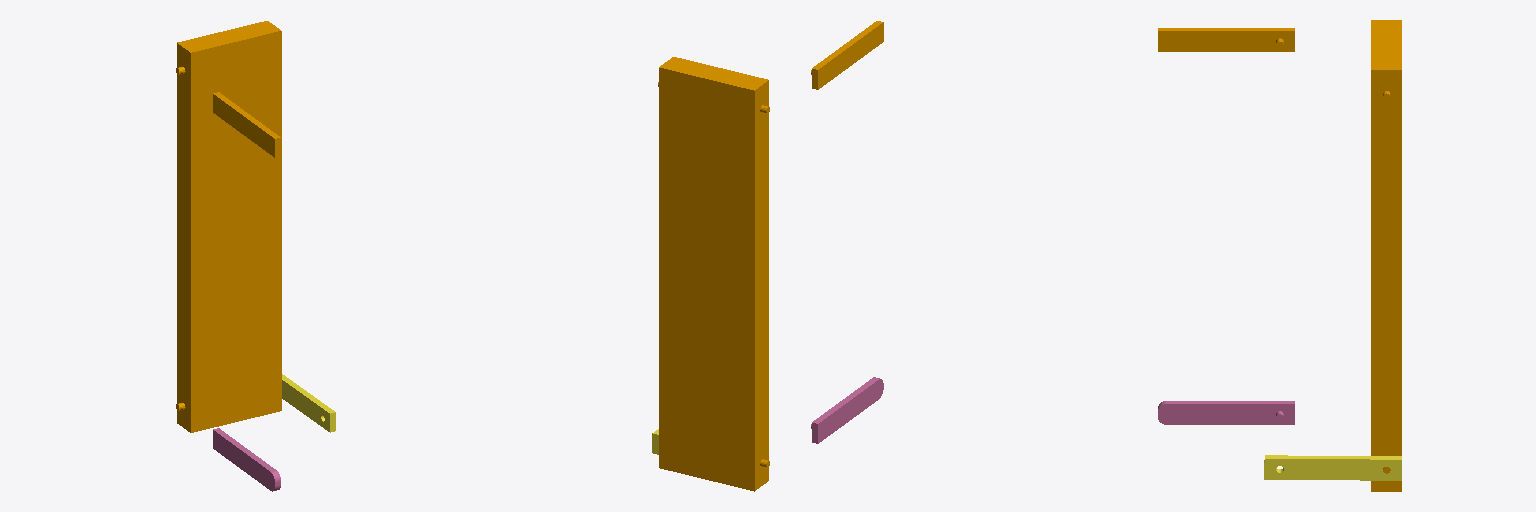
robot.urdf — Quadroped:
<?xml version='1.0' encoding='utf-8'?>
<robot name="Quadroped">
    <link name="Body-v1">
        <inertial>
            <origin xyz="0.0 2.5241714164863475e-18 0.0" rpy="0.0 0.0 0.0" />
            <mass value="28.28466150233067" />
            <inertia ixx="0.8533001622699443" iyy="0.9026775472629809" izz="0.056913693261835374" ixy="-2.2846506908535957e-17" iyz="0.0" ixz="-1.8277205526828766e-16" />
        </inertial>
        <visual name="Body-v1_visual">
            <origin xyz="0.0 0.0 0.0" rpy="0.0 0.0 0.0" />
            <geometry>
                <mesh filename="meshes/Body-v1.stl" scale="0.001 0.001 0.001" />
            </geometry>
        </visual>
        <collision name="Body-v1_collision">
            <origin xyz="0.0 0.0 0.0" rpy="0.0 0.0 0.0" />
            <geometry>
                <mesh filename="meshes/Body-v1.stl" scale="0.001 0.001 0.001" />
            </geometry>
        </collision>
    </link>
    <link name="Lower-leg-1">
        <inertial>
            <origin xyz="0.014854892861753068 0.06790021181747809 2.2737367544323207e-14" rpy="0.0 -0.0 0.0" />
            <mass value="0.4248843755826693" />
            <inertia ixx="0.001163399349745818" iyy="3.5590752875493126e-05" izz="0.001136105185446424" ixy="-4.18630307997582e-06" iyz="6.522560269672795e-16" ixz="-1.734723475976807e-18" />
        </inertial>
        <visual name="Lower-leg-1_visual">
            <origin xyz="0.020000000000000195 0.06890000000000038 0.0" rpy="-3.141592653589793 1.5707963267948966 0" />
            <geometry>
                <mesh filename="meshes/Lower-leg-1.stl" scale="0.001 0.001 0.001" />
            </geometry>
        </visual>
        <collision name="Lower-leg-1_collision">
            <origin xyz="0.020000000000000195 0.06890000000000038 0.0" rpy="-3.141592653589793 1.5707963267948966 0" />
            <geometry>
                <mesh filename="meshes/Lower-leg-1.stl" scale="0.001 0.001 0.001" />
            </geometry>
        </collision>
    </link>
    <link name="Upper-leg-1">
        <inertial>
            <origin xyz="-1.5880630144238238e-14 0.06889999999999996 0.005000000000000036" rpy="0.0 -0.0 0.0" />
            <mass value="0.4063882488346593" />
            <inertia ixx="0.0010478475656508172" iyy="3.471342654052731e-05" izz="0.0010757878547107726" ixy="8.673617379884035e-19" iyz="4.336808689942018e-19" ixz="1.734723475976807e-18" />
        </inertial>
        <visual name="Upper-leg-1_visual">
            <origin xyz="0.0 0.06890000000000006 0.010000000000000035" rpy="-3.141592653589793 -0.0 0.0" />
            <geometry>
                <mesh filename="meshes/Upper-leg-1.stl" scale="0.001 0.001 0.001" />
            </geometry>
        </visual>
        <collision name="Upper-leg-1_collision">
            <origin xyz="0.0 0.06890000000000006 0.010000000000000035" rpy="-3.141592653589793 -0.0 0.0" />
            <geometry>
                <mesh filename="meshes/Upper-leg-1.stl" scale="0.001 0.001 0.001" />
            </geometry>
        </collision>
    </link>
    <link name="Upper-leg-2">
        <inertial>
            <origin xyz="0.0006636417193790223 -0.06889680384218404 -0.005000000000000071" rpy="0.0 -0.0 0.0" />
            <mass value="0.4063882488346593" />
            <inertia ixx="0.0010477535725741246" iyy="3.4807419617220725e-05" izz="0.0010757878547107795" ixy="9.75801004989181e-06" iyz="0.0" ixz="-3.469446951953614e-18" />
        </inertial>
        <visual name="Upper-leg-2_visual">
            <origin xyz="0.0006636417193631416 -0.06889680384218429 -6.217248937900877e-17" rpy="3.141592653589793 2.13872370664345e-18 -3.1319605493618807" />
            <geometry>
                <mesh filename="meshes/Upper-leg-2.stl" scale="0.001 0.001 0.001" />
            </geometry>
        </visual>
        <collision name="Upper-leg-2_collision">
            <origin xyz="0.0006636417193631416 -0.06889680384218429 -6.217248937900877e-17" rpy="3.141592653589793 2.13872370664345e-18 -3.1319605493618807" />
            <geometry>
                <mesh filename="meshes/Upper-leg-2.stl" scale="0.001 0.001 0.001" />
            </geometry>
        </collision>
    </link>
    <link name="Lower-leg-2">
        <inertial>
            <origin xyz="0.0048548928617529975 -0.06789705972256062 0.0006540152429947099" rpy="0.0 -0.0 0.0" />
            <mass value="0.4248843755826693" />
            <inertia ixx="0.0011633993497458394" iyy="3.569285262070705e-05" izz="0.0011360030857012204" ixy="4.18610888425382e-06" iyz="1.059961408779453e-05" ixz="-4.032228408459851e-08" />
        </inertial>
        <visual name="Lower-leg-2_visual">
            <origin xyz="0.010000000000000071 -0.06889680152655131 0.0006636451580892455" rpy="-1.5707963267948963 -1.561164222566984 1.5707963267948968" />
            <geometry>
                <mesh filename="meshes/Lower-leg-2.stl" scale="0.001 0.001 0.001" />
            </geometry>
        </visual>
        <collision name="Lower-leg-2_collision">
            <origin xyz="0.010000000000000071 -0.06889680152655131 0.0006636451580892455" rpy="-1.5707963267948963 -1.561164222566984 1.5707963267948968" />
            <geometry>
                <mesh filename="meshes/Lower-leg-2.stl" scale="0.001 0.001 0.001" />
            </geometry>
        </collision>
    </link>
    <link name="Upper-leg-3">
        <inertial>
            <origin xyz="1.5880630144238238e-14 -0.06889999999999996 0.004999999999999983" rpy="0.0 -0.0 0.0" />
            <mass value="0.4063882488346593" />
            <inertia ixx="0.0010478475656508172" iyy="3.471342654052731e-05" izz="0.0010757878547107726" ixy="8.673617379884035e-19" iyz="-4.336808689942018e-19" ixz="0.0" />
        </inertial>
        <visual name="Upper-leg-3_visual">
            <origin xyz="0.0 -0.06890000000000006 0.009999999999999983" rpy="-3.141592653589793 2.719262146893782e-32 3.141592653589793" />
            <geometry>
                <mesh filename="meshes/Upper-leg-3.stl" scale="0.001 0.001 0.001" />
            </geometry>
        </visual>
        <collision name="Upper-leg-3_collision">
            <origin xyz="0.0 -0.06890000000000006 0.009999999999999983" rpy="-3.141592653589793 2.719262146893782e-32 3.141592653589793" />
            <geometry>
                <mesh filename="meshes/Upper-leg-3.stl" scale="0.001 0.001 0.001" />
            </geometry>
        </collision>
    </link>
    <link name="Lower-leg-3">
        <inertial>
            <origin xyz="-0.004854892861752926 -0.0679002118174777 2.2737367544323207e-14" rpy="0.0 -0.0 0.0" />
            <mass value="0.4248843755826693" />
            <inertia ixx="0.0011633993497458042" iyy="3.559075287547925e-05" izz="0.0011361051854464274" ixy="-4.186303079977555e-06" iyz="-6.557254739192331e-16" ixz="1.734723475976807e-18" />
        </inertial>
        <visual name="Lower-leg-3_visual">
            <origin xyz="-0.010000000000000018 -0.06890000000000003 0.0" rpy="2.220446049250313e-16 1.5707963267948966 0" />
            <geometry>
                <mesh filename="meshes/Lower-leg-3.stl" scale="0.001 0.001 0.001" />
            </geometry>
        </visual>
        <collision name="Lower-leg-3_collision">
            <origin xyz="-0.010000000000000018 -0.06890000000000003 0.0" rpy="2.220446049250313e-16 1.5707963267948966 0" />
            <geometry>
                <mesh filename="meshes/Lower-leg-3.stl" scale="0.001 0.001 0.001" />
            </geometry>
        </collision>
    </link>
    <link name="Upper-leg-4">
        <inertial>
            <origin xyz="-1.5880630144238238e-14 0.06889999999999996 -1.7763568394002505e-17" rpy="0.0 -0.0 0.0" />
            <mass value="0.4063882488346593" />
            <inertia ixx="0.0010478475656508172" iyy="3.471342654052731e-05" izz="0.0010757878547107726" ixy="8.673617379884035e-19" iyz="4.336808689942018e-19" ixz="0.0" />
        </inertial>
        <visual name="Upper-leg-4_visual">
            <origin xyz="0.0 0.06890000000000006 0.004999999999999983" rpy="3.141592653589793 -0.0 0.0" />
            <geometry>
                <mesh filename="meshes/Upper-leg-4.stl" scale="0.001 0.001 0.001" />
            </geometry>
        </visual>
        <collision name="Upper-leg-4_collision">
            <origin xyz="0.0 0.06890000000000006 0.004999999999999983" rpy="3.141592653589793 -0.0 0.0" />
            <geometry>
                <mesh filename="meshes/Upper-leg-4.stl" scale="0.001 0.001 0.001" />
            </geometry>
        </collision>
    </link>
    <link name="Lower-leg-4">
        <inertial>
            <origin xyz="-0.00485489286175298 -0.0679002118174777 2.277289468111121e-14" rpy="0.0 -0.0 0.0" />
            <mass value="0.4248843755826693" />
            <inertia ixx="0.0011633993497458112" iyy="3.5590752875500065e-05" izz="0.0011361051854464274" ixy="-4.18630307997582e-06" iyz="-6.591949208711867e-16" ixz="1.734723475976807e-18" />
        </inertial>
        <visual name="Lower-leg-4_visual">
            <origin xyz="-0.010000000000000054 -0.06890000000000003 0.0" rpy="2.220446049250313e-16 1.5707963267948966 0" />
            <geometry>
                <mesh filename="meshes/Lower-leg-4.stl" scale="0.001 0.001 0.001" />
            </geometry>
        </visual>
        <collision name="Lower-leg-4_collision">
            <origin xyz="-0.010000000000000054 -0.06890000000000003 0.0" rpy="2.220446049250313e-16 1.5707963267948966 0" />
            <geometry>
                <mesh filename="meshes/Lower-leg-4.stl" scale="0.001 0.001 0.001" />
            </geometry>
        </collision>
    </link>
    <joint name="Body-v1_Revolute-1" type="continuous">
        <origin xyz="0.075 0.0 0.265" rpy="-3.141592653589793 -1.5707963267948966 0" />
        <parent link="Body-v1" />
        <child link="Upper-leg-1" />
        <axis xyz="0.0 0.0 1.0" />
    </joint>
    <joint name="Upper-leg-1_Revolute-2" type="continuous">
        <origin xyz="0.0 0.1378 0.0" rpy="-0.0 -1.5707963267948966 0" />
        <parent link="Upper-leg-1" />
        <child link="Lower-leg-1" />
        <axis xyz="1.0 0.0 -0.0" />
    </joint>
    <joint name="Body-v1_Revolute-3" type="continuous">
        <origin xyz="0.075 0.0 -0.265" rpy="-0.0 -1.5707963267948966 0" />
        <parent link="Body-v1" />
        <child link="Upper-leg-2" />
        <axis xyz="0.0 0.0 1.0" />
    </joint>
    <joint name="Upper-leg-2_Revolute-4" type="continuous">
        <origin xyz="0.0013272800000000019 -0.13779361 -0.01" rpy="-0.0 1.5707963267948966 0" />
        <parent link="Upper-leg-2" />
        <child link="Lower-leg-2" />
        <axis xyz="1.0000000000000002 1.734723475976807e-18 0.0" />
    </joint>
    <joint name="Body-v1_Revolute-5" type="continuous">
        <origin xyz="-0.075 0.0 -0.265" rpy="-0.0 -1.5707963267948966 0" />
        <parent link="Body-v1" />
        <child link="Upper-leg-3" />
        <axis xyz="0.0 0.0 1.0" />
    </joint>
    <joint name="Upper-leg-3_Revolute-6" type="continuous">
        <origin xyz="0.0 -0.1378 0.01" rpy="-0.0 1.5707963267948966 0" />
        <parent link="Upper-leg-3" />
        <child link="Lower-leg-3" />
        <axis xyz="1.0 0.0 0.0" />
    </joint>
    <joint name="Body-v1_Revolute-7" type="continuous">
        <origin xyz="-0.08 0.0 0.265" rpy="-3.141592653589793 -1.5707963267948966 0" />
        <parent link="Body-v1" />
        <child link="Upper-leg-4" />
        <axis xyz="0.0 0.0 1.0" />
    </joint>
    <joint name="Upper-leg-4_Revolute-8" type="continuous">
        <origin xyz="0.0 0.1378 -0.005" rpy="-3.141592653589793 -1.5707963267948966 0" />
        <parent link="Upper-leg-4" />
        <child link="Lower-leg-4" />
        <axis xyz="-1.0 0.0 0.0" />
    </joint>
</robot>

--- Render facts (derived) ---
The picture shows the robot from 3 angles, left to right: view 1: azimuth 30°, elevation 25°; view 2: azimuth 150°, elevation 25°; view 3: azimuth 270°, elevation 25°; orthographic projection.
Robot: Quadroped — 9 links, 8 joints (8 continuous); root link Body-v1; default pose: every joint at zero.
Links seen in each view (by area): view 1: Body-v1, Lower-leg-4, Lower-leg-3, Upper-leg-2; view 2: Body-v1, Lower-leg-4, Lower-leg-3; view 3: Body-v1, Upper-leg-2, Lower-leg-4, Lower-leg-3.
Boxes of the visible links, x1,y1,x2,y2 form: Body-v1: [176, 21, 281, 432]; Lower-leg-4: [213, 92, 280, 157]; Lower-leg-3: [213, 428, 280, 491]; Upper-leg-2: [282, 374, 335, 432]; Body-v1: [658, 57, 769, 491]; Lower-leg-4: [811, 21, 883, 89]; Lower-leg-3: [811, 377, 883, 443]; Body-v1: [1371, 20, 1401, 491]; Upper-leg-2: [1264, 455, 1401, 480]; Lower-leg-4: [1158, 28, 1294, 51]; Lower-leg-3: [1158, 401, 1294, 424].
Size in the robot's own frame: 0.18 by 0.3157 by 0.6 metres.
Meshes: 9 distinct files referenced, 4 mesh visuals loaded (4 binary STL); not drawn: 5 (reference not matched to a file when rendering).